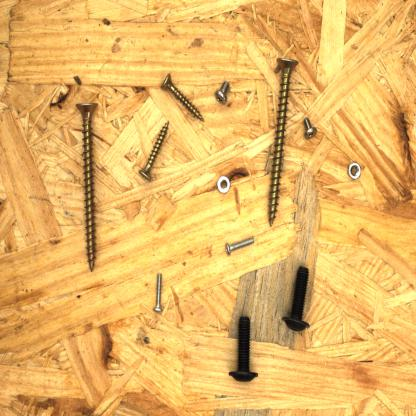screw: (266, 53, 301, 230), (73, 100, 106, 273), (277, 262, 316, 335), (158, 70, 208, 125), (225, 310, 261, 385), (136, 117, 173, 184), (220, 232, 260, 260), (152, 272, 168, 314), (212, 79, 234, 106), (301, 116, 320, 142)
